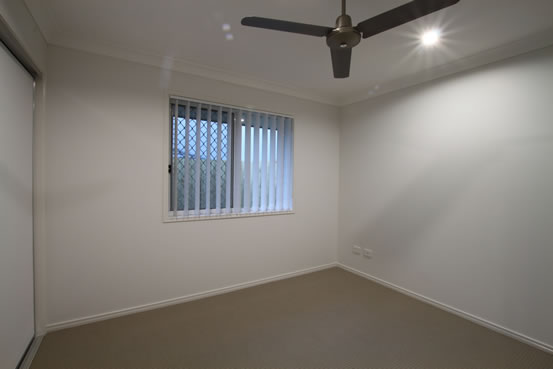ceiling fan: (226, 1, 482, 80)
